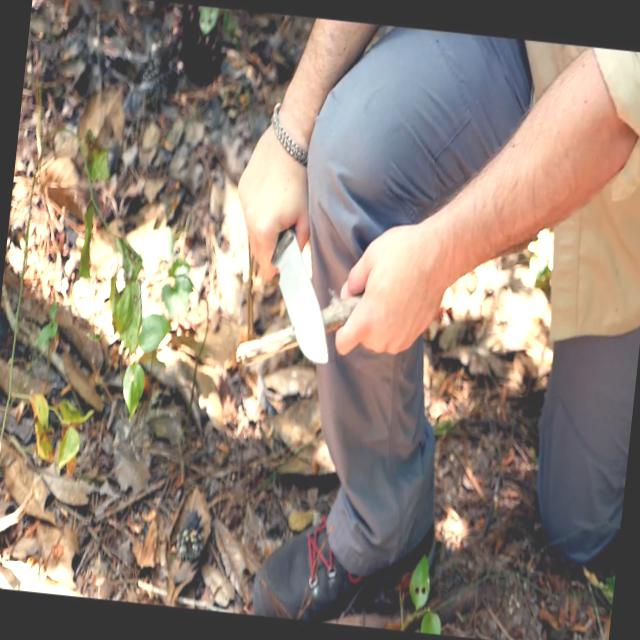knife: (236, 195, 346, 372)
